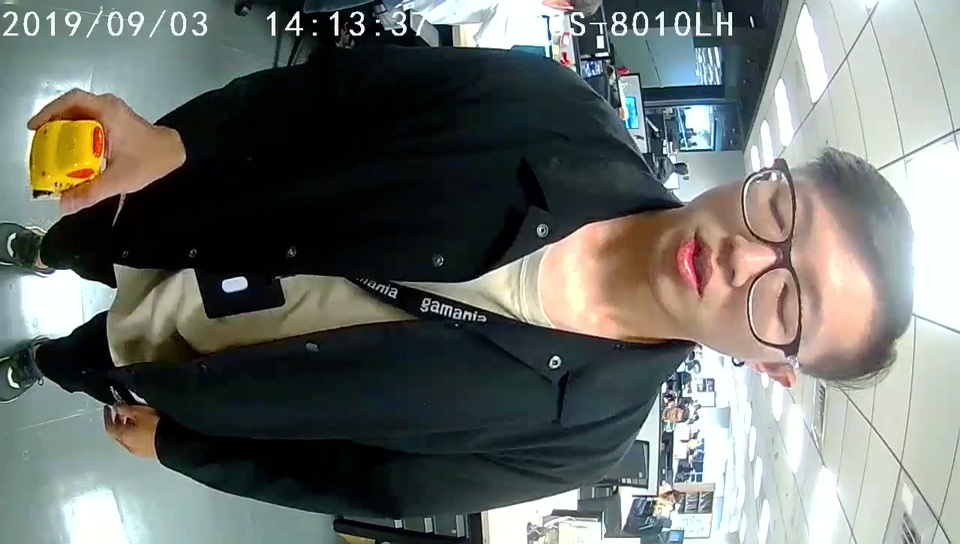car: (30, 113, 108, 196)
